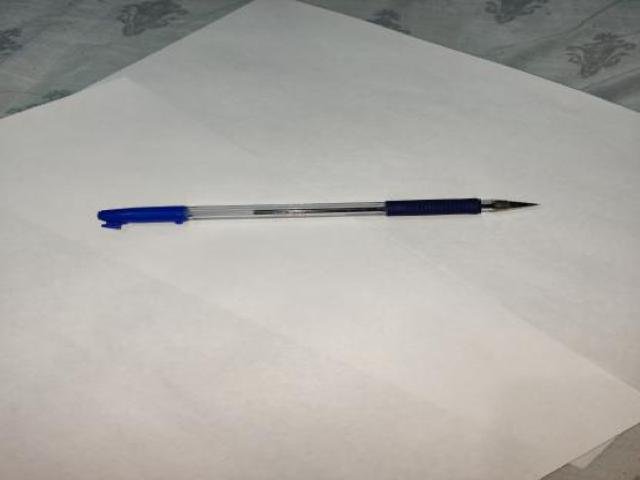PEN: (94, 193, 542, 234)
